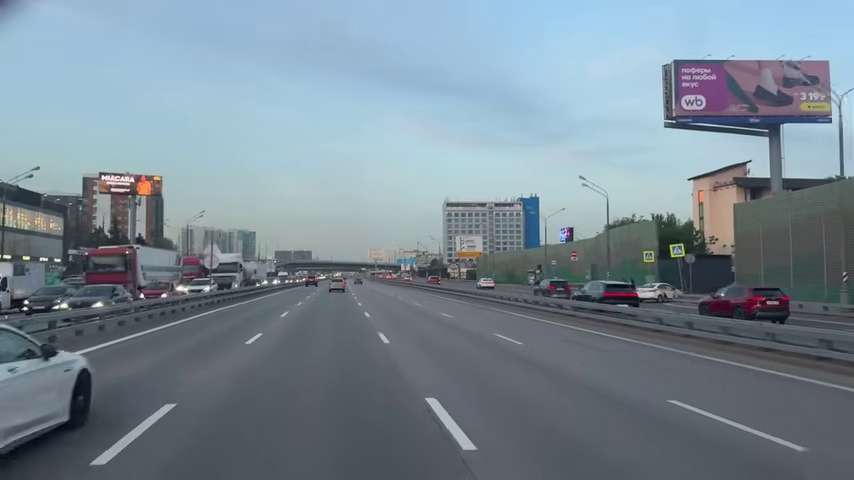apagada: (144, 401, 176, 426), (24, 163, 42, 180), (575, 174, 591, 190)
